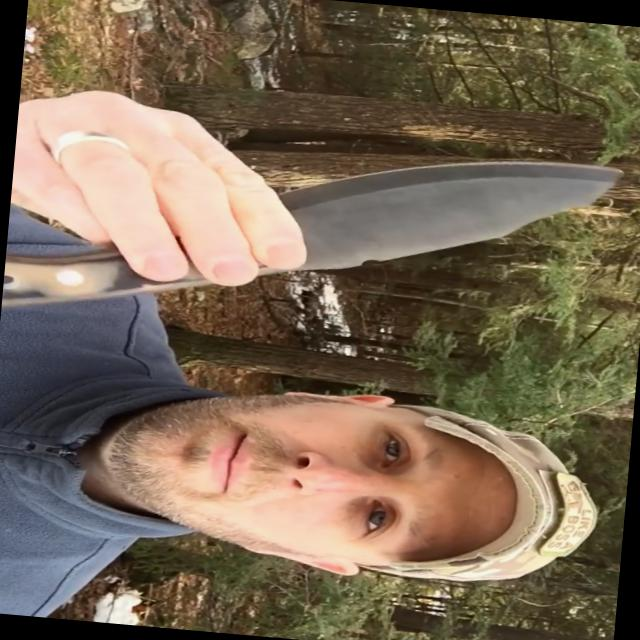knife: (89, 81, 639, 346)
